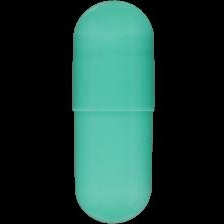50090-0131: (0, 0, 224, 224)
